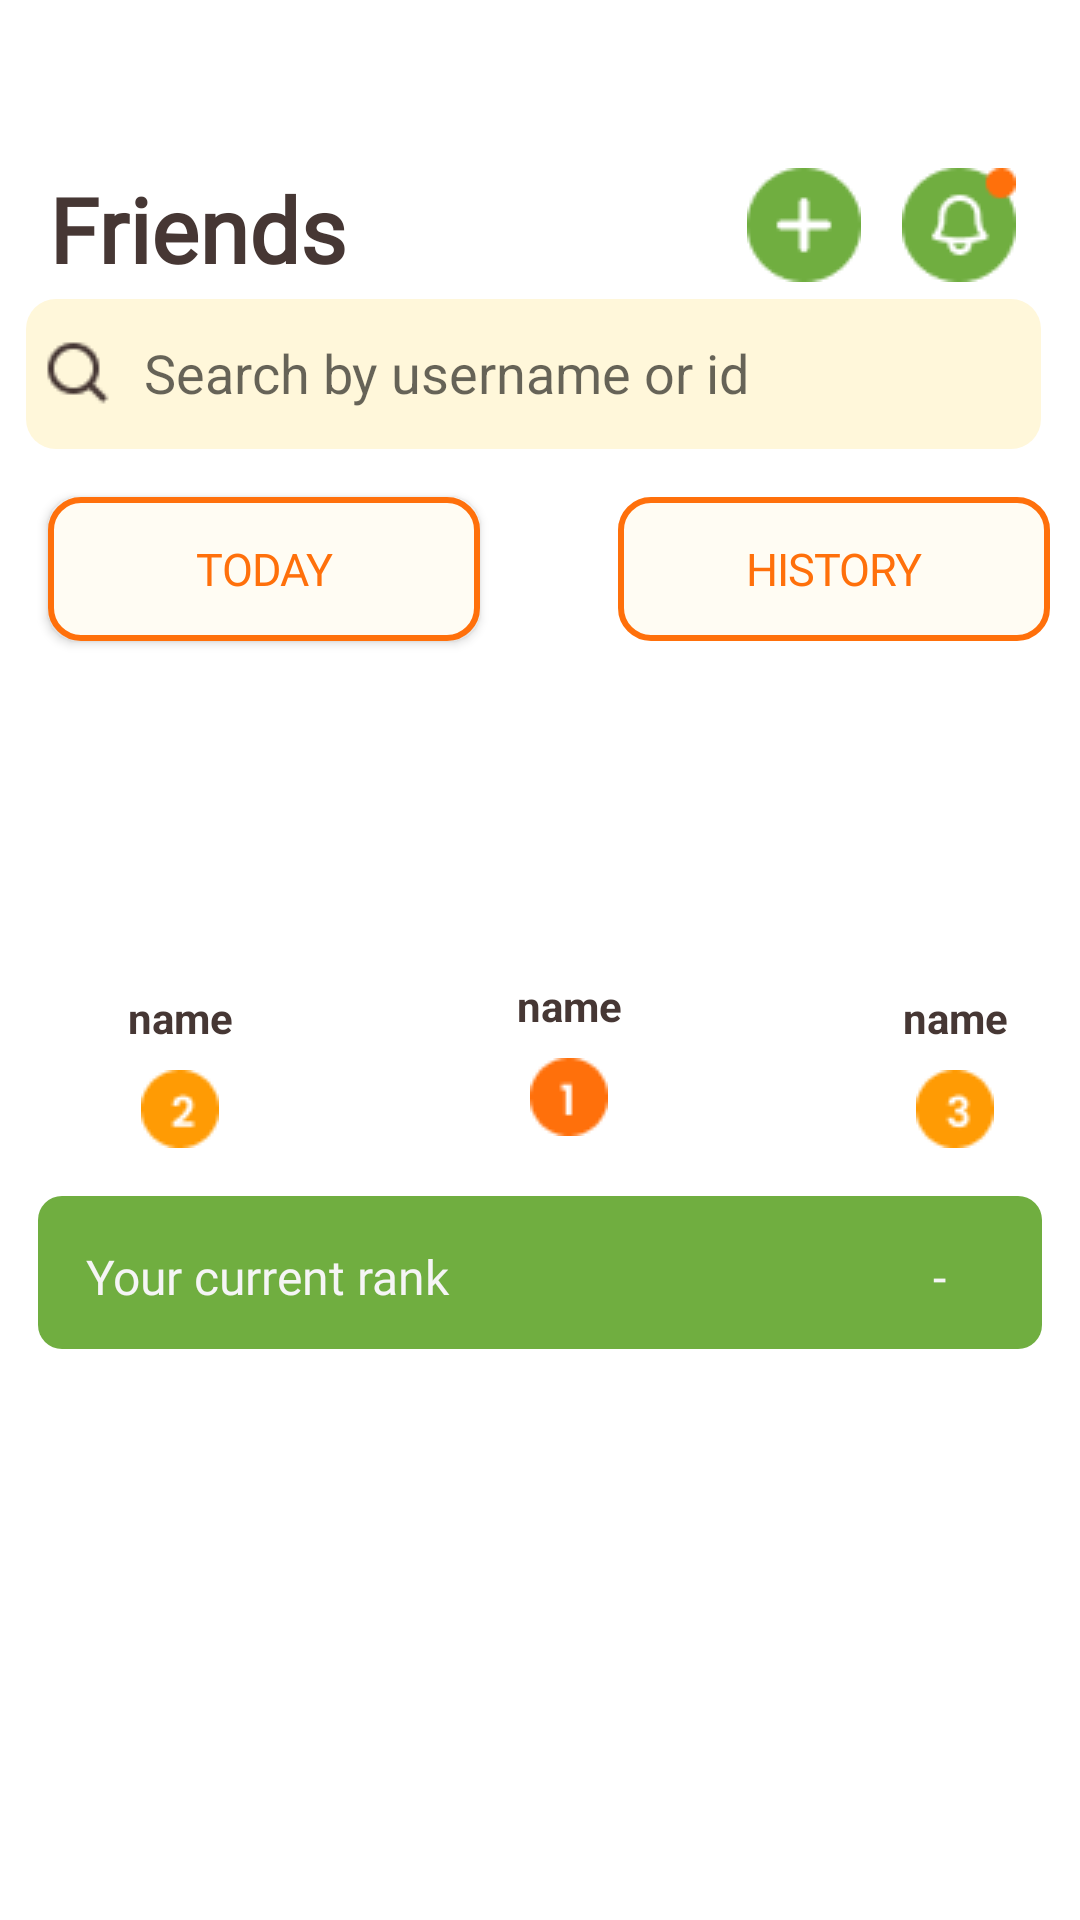

Screen size 1080 x 1920. Icon name, then its box in pixels as box(x1, y1, x2, y2):
add friend: box(747, 168, 861, 282)
get reaction: box(902, 168, 1016, 282)
rankfirst: box(530, 1058, 608, 1136)
ranksecond: box(141, 1070, 219, 1148)
rankthird: box(916, 1070, 994, 1148)
